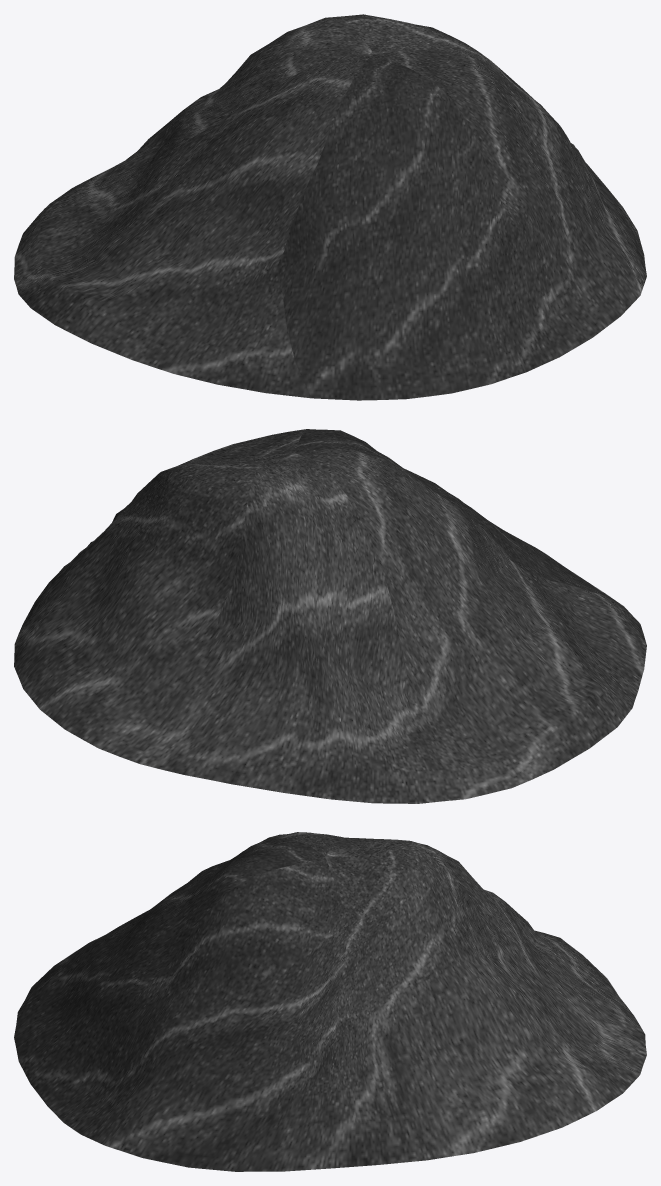
File: sand (1).fbx
The picture shows the model from 3 angles, top to bottom: view 1: azimuth 30°, elevation 25°; view 2: azimuth 150°, elevation 25°; view 3: azimuth 270°, elevation 25°; orthographic projection. The views are drawn at different scales.
Visible parts, largest first — view 1: Icosphere; view 2: Icosphere; view 3: Icosphere.
Part boxes in pixels (<box>): Icosphere: <box>14,14,646,400</box>; Icosphere: <box>14,429,646,803</box>; Icosphere: <box>14,832,646,1171</box>.
Bounding box in the file's own units: 172 × 67.46 × 166.
